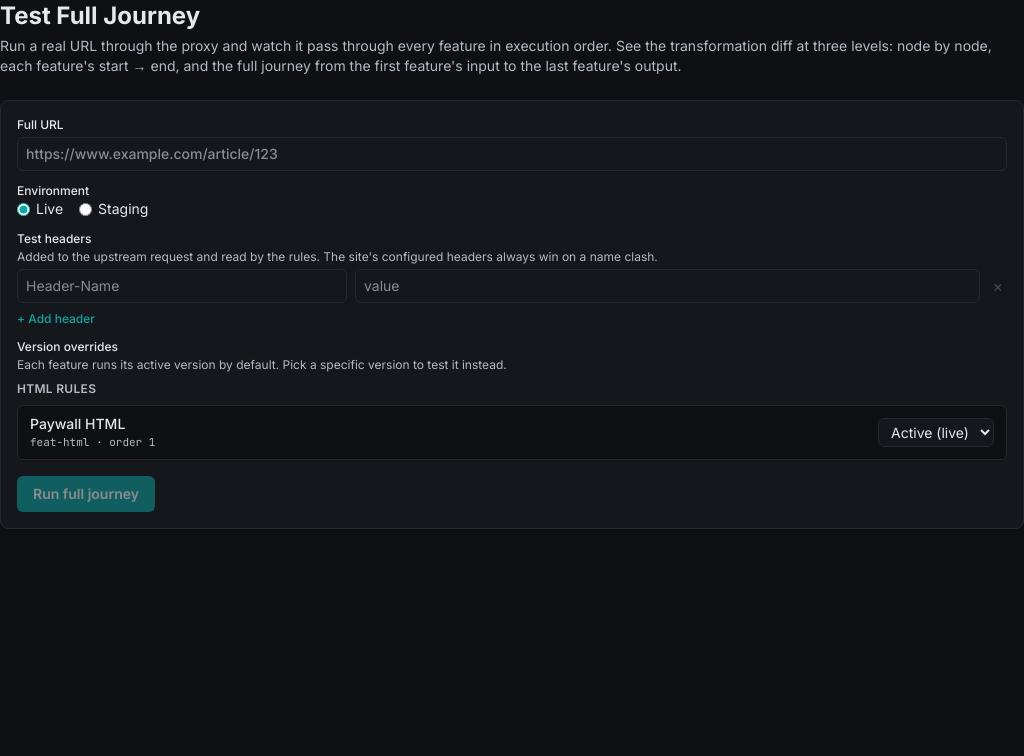
FullJourneyClient › a non-default version selection populates version_overrides in the POST body
Type "https://www.example.com/article/1" into the field labelled "Full URL" at (512, 154), box [17,137,1007,171]
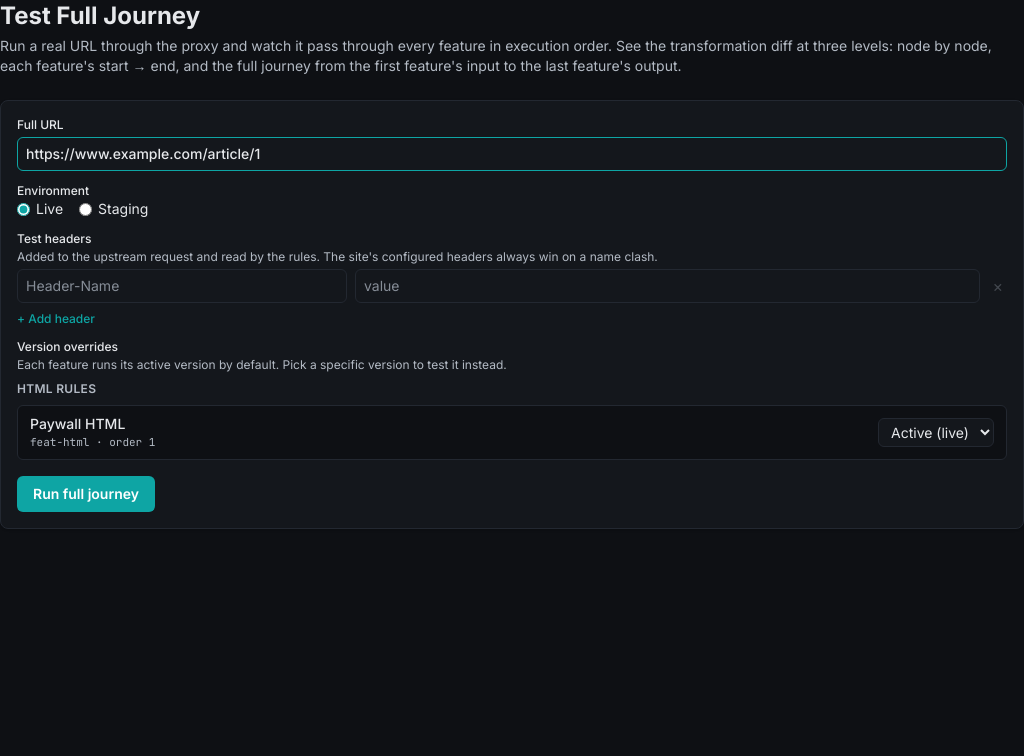
Note: Default is "Active (live)" → no override.
Select "v5" in the dropdown named "Version for Paywall HTML" at (936, 432), box [878,418,994,447]
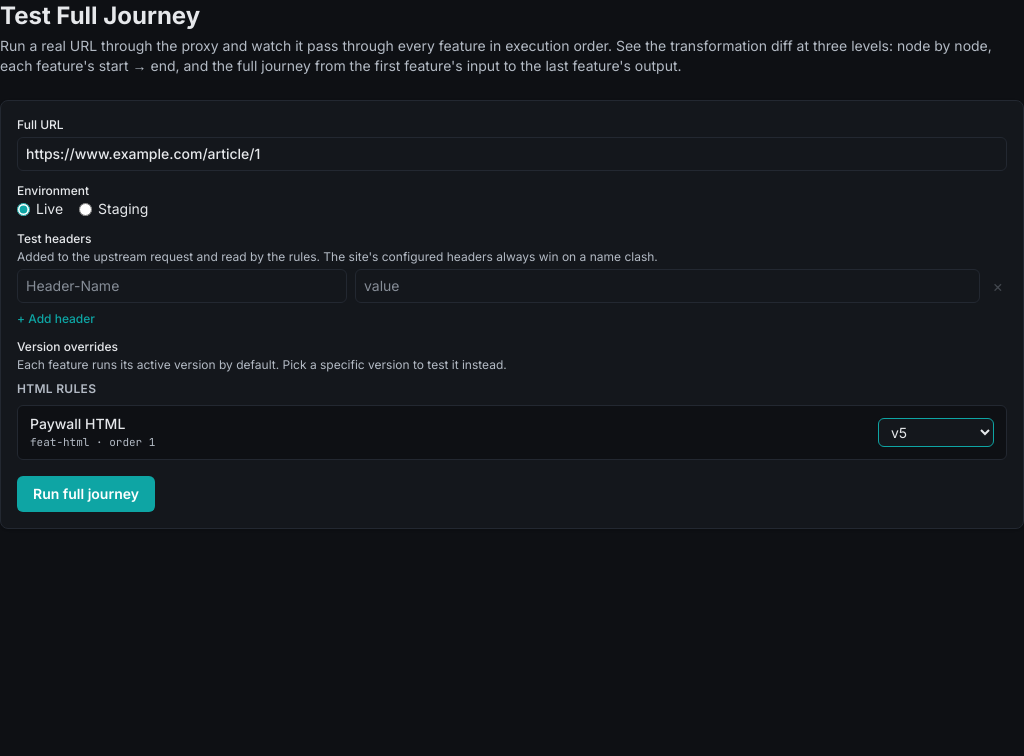
Click the button "Run full journey" at (86, 494), box [17,476,155,512]
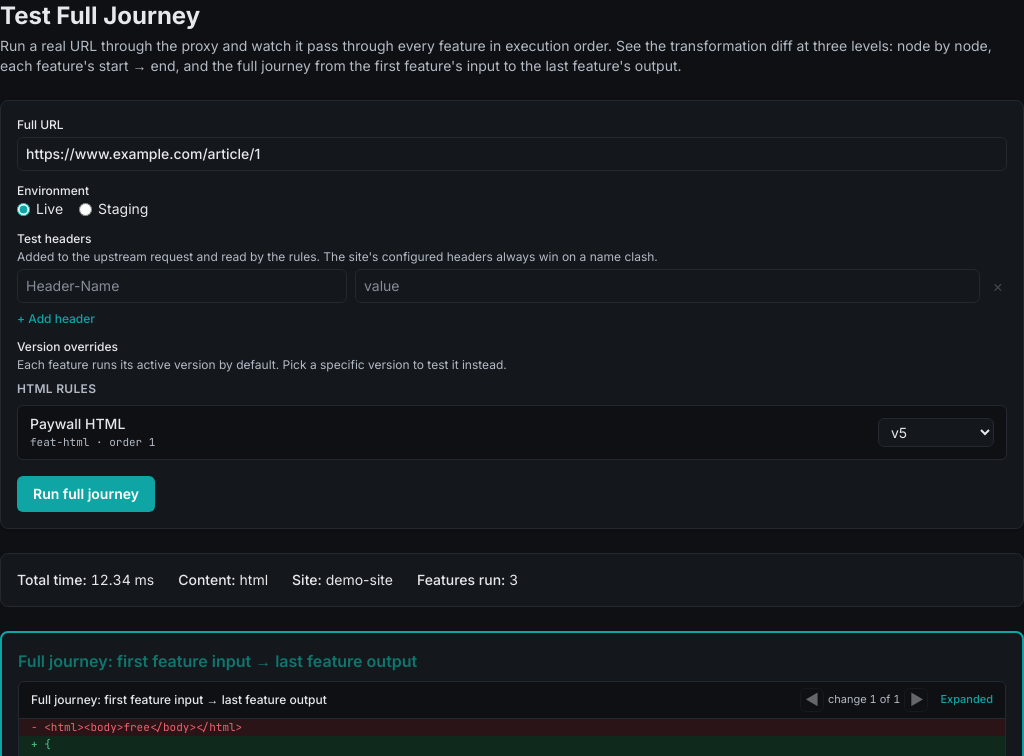
Expected: the text "12.34 ms" is shown, [91,570,154,588]
